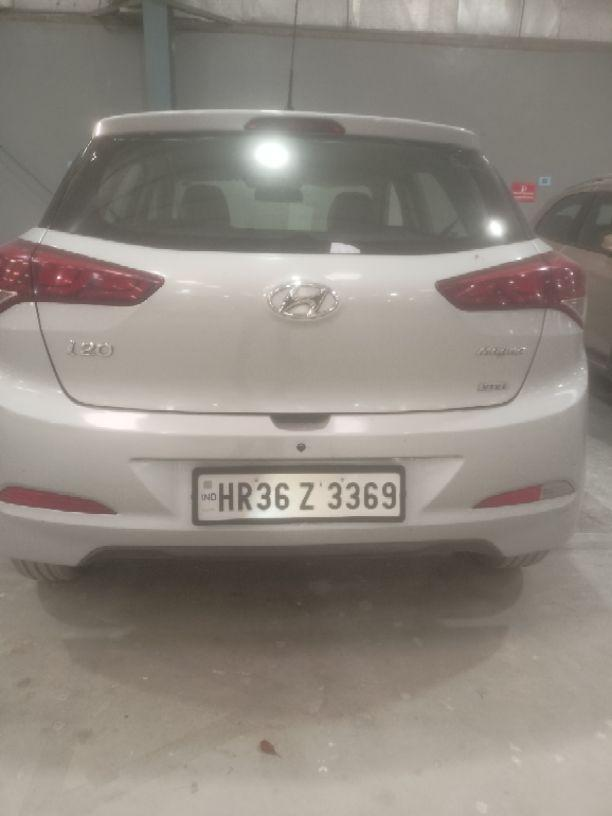license_plate: (191, 463, 406, 524)
